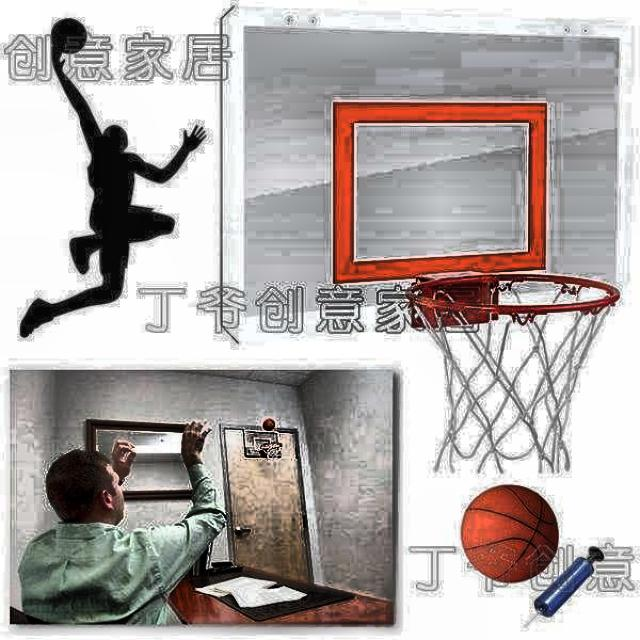board: (459, 483, 561, 583)
